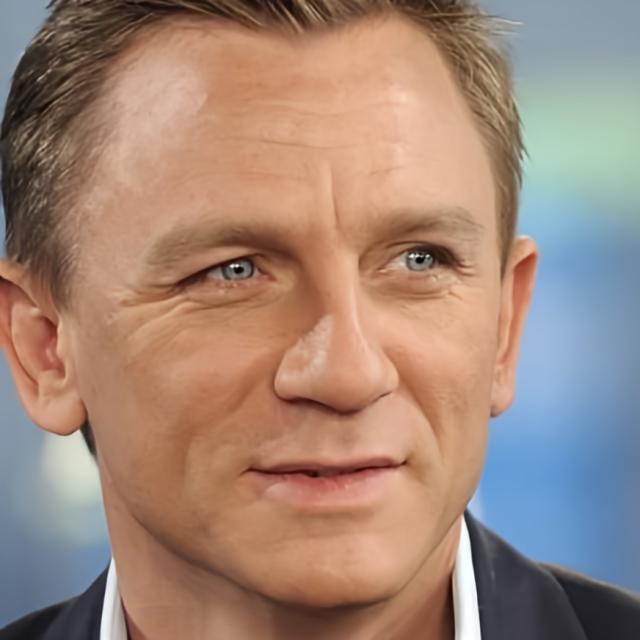happy: (84, 41, 506, 606)
